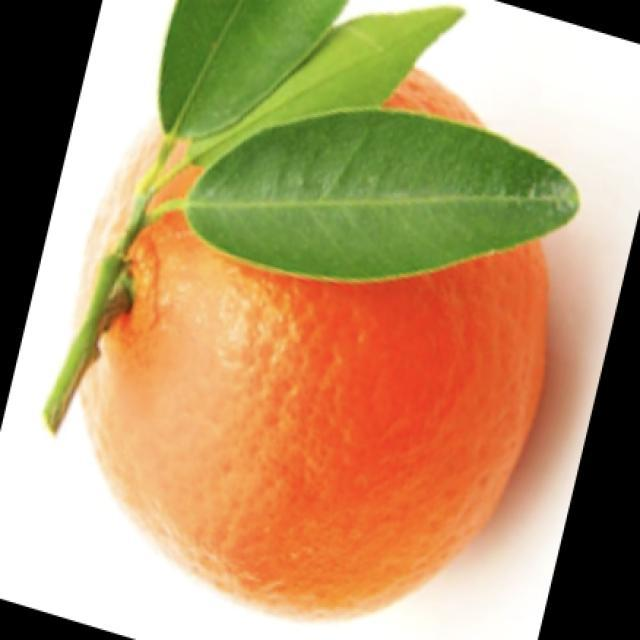Orange: (58, 63, 556, 621)
